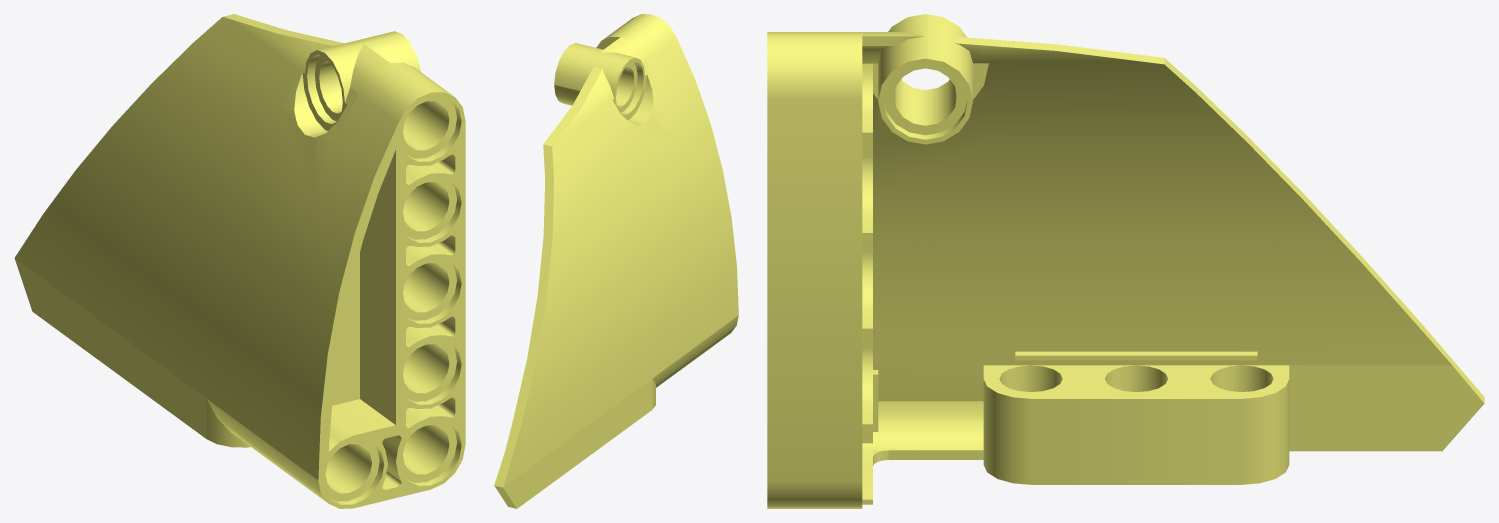
The picture shows the model from 3 angles, left to right: view 1: azimuth 30°, elevation 25°; view 2: azimuth 150°, elevation 25°; view 3: azimuth 270°, elevation 25°; orthographic projection. The views are drawn at different scales.
Parts seen in each view (by area): view 1: 64394.dat; view 2: 64394.dat; view 3: 64394.dat.
Boxes of the visible parts, bbox=[...] form: 64394.dat: bbox=[14, 14, 465, 508]; 64394.dat: bbox=[494, 14, 738, 508]; 64394.dat: bbox=[767, 14, 1484, 508].
Bounding box in the file's own units: 0.0156 × 0.0396 × 0.0544.
